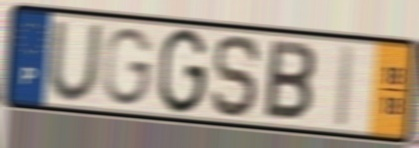B: (261, 37, 318, 125)
G: (155, 26, 211, 118), (102, 25, 157, 109)
I: (330, 41, 359, 131)
S: (209, 32, 263, 121)
U: (46, 20, 105, 105)
